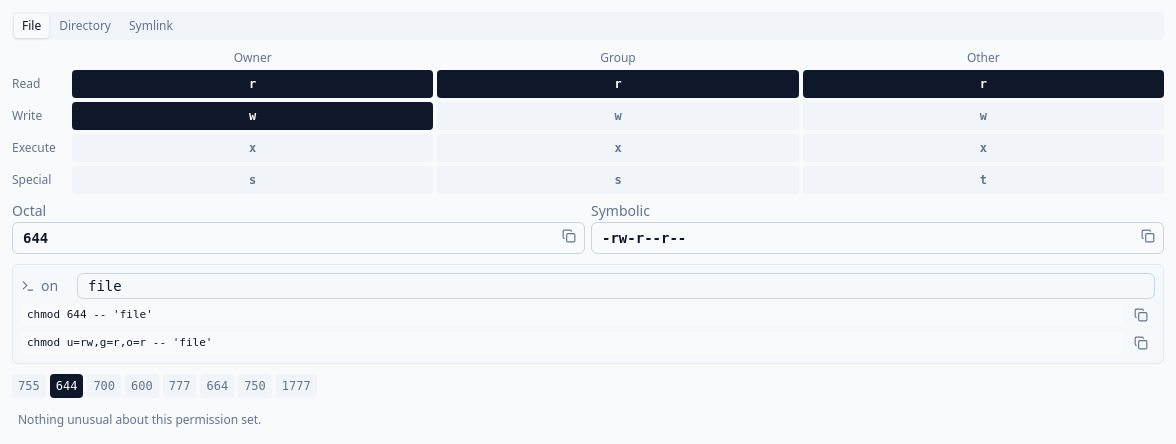
Test case: UnixPermissionsWidget › typing a valid octal value updates the checkboxes and symbolic field
Replace the text in the field labelled "Octal" with "755" at (298, 238), box left=12, top=222, right=585, bottom=254
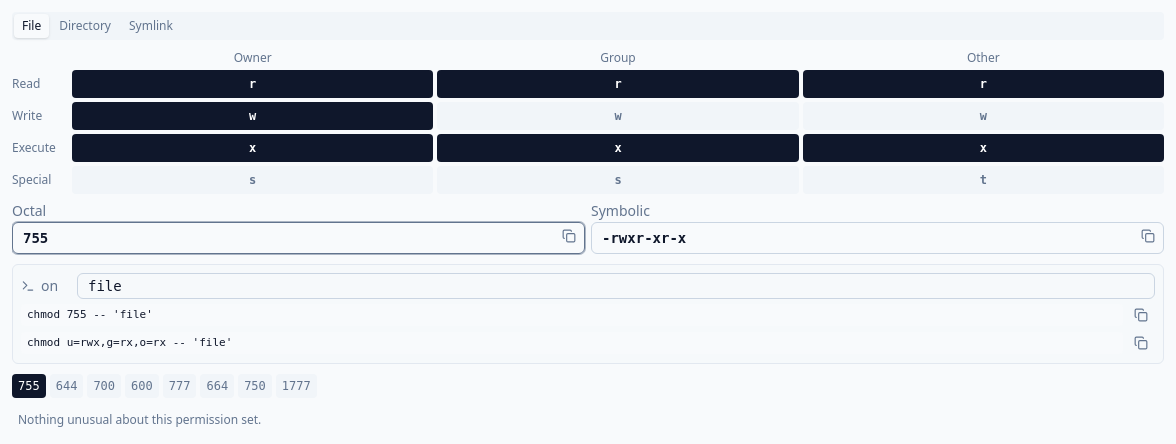
Result: the field labelled "Symbolic" holds "-rwxr-xr-x" at left=591, top=222, right=1164, bottom=254
